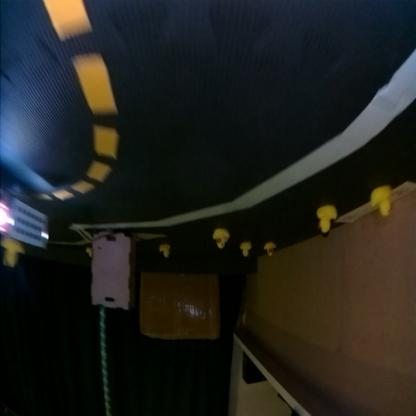Duckie: (371, 186, 393, 216), (3, 238, 23, 266), (318, 208, 338, 232), (214, 230, 230, 250), (264, 242, 276, 257), (240, 243, 252, 257), (160, 244, 172, 258), (86, 249, 92, 258)
Duckiebot: (2, 190, 48, 249)
